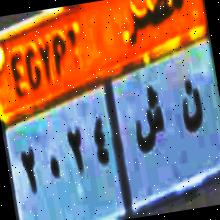0: (44, 147, 64, 193)
2: (14, 142, 45, 204), (64, 114, 88, 181)
4: (90, 113, 113, 172)
noon: (173, 69, 206, 142)
sheen: (128, 82, 169, 159)
